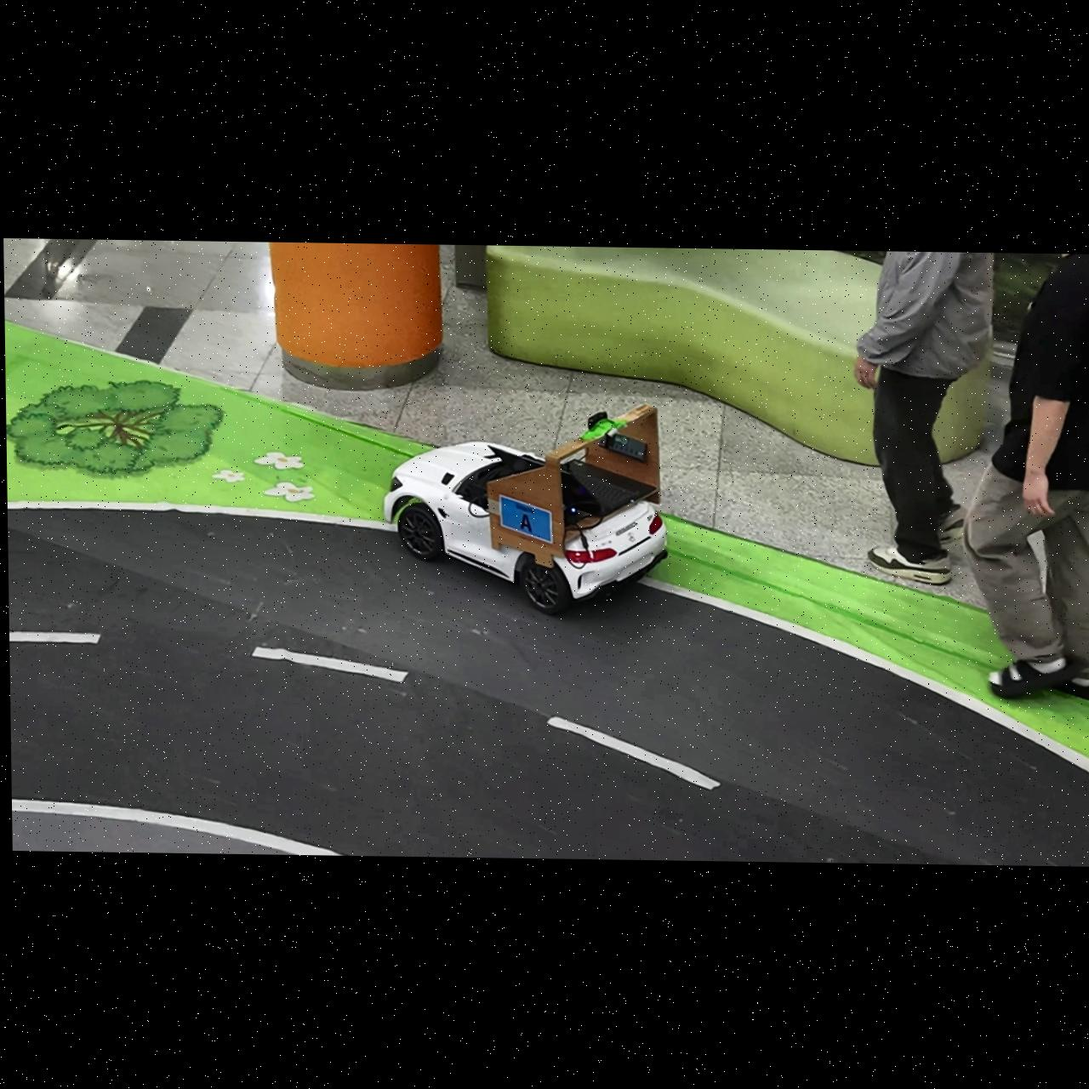broken_line: (546, 716, 721, 790), (252, 646, 409, 682), (9, 631, 101, 644)
